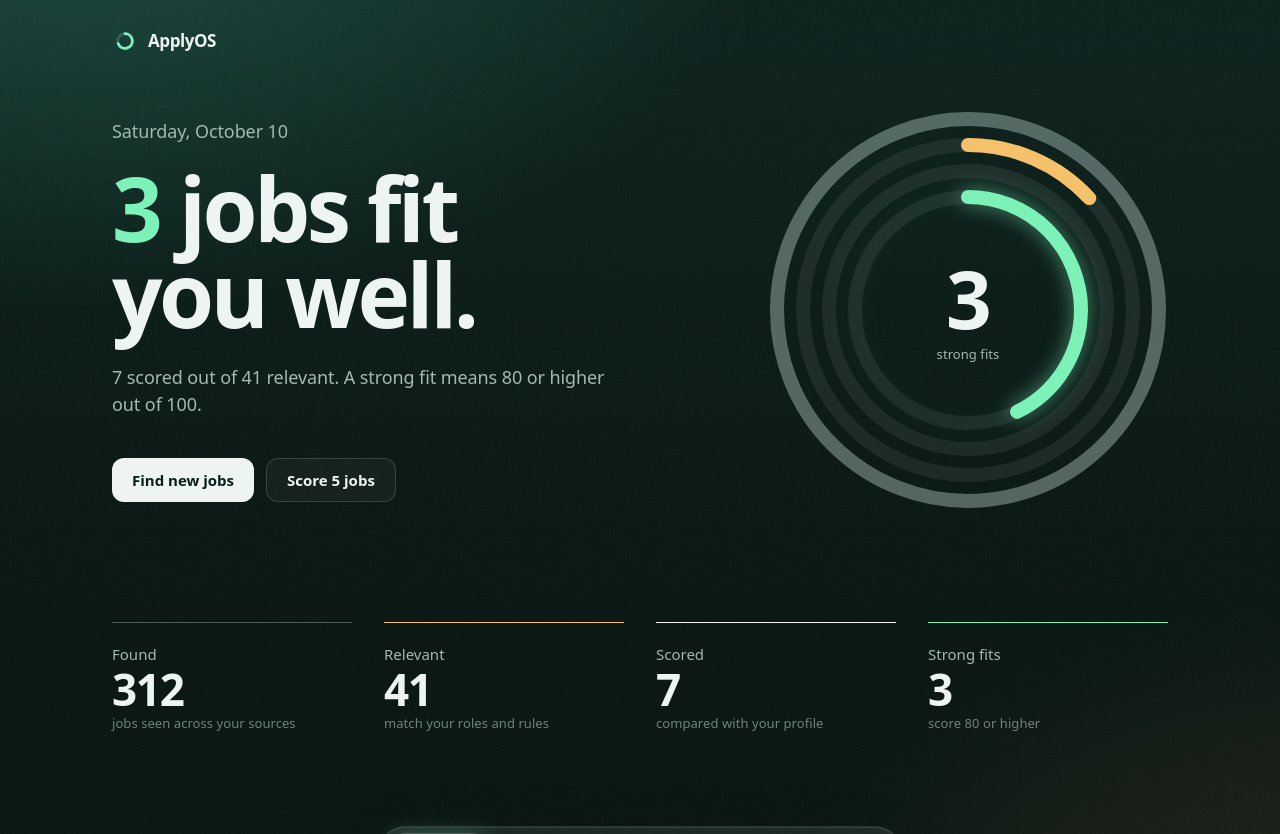
Test: Today page › finds jobs, confirms, and remembers the last search
Click the button "Find new jobs". click: (183,480)
box: [112,458,254,502]
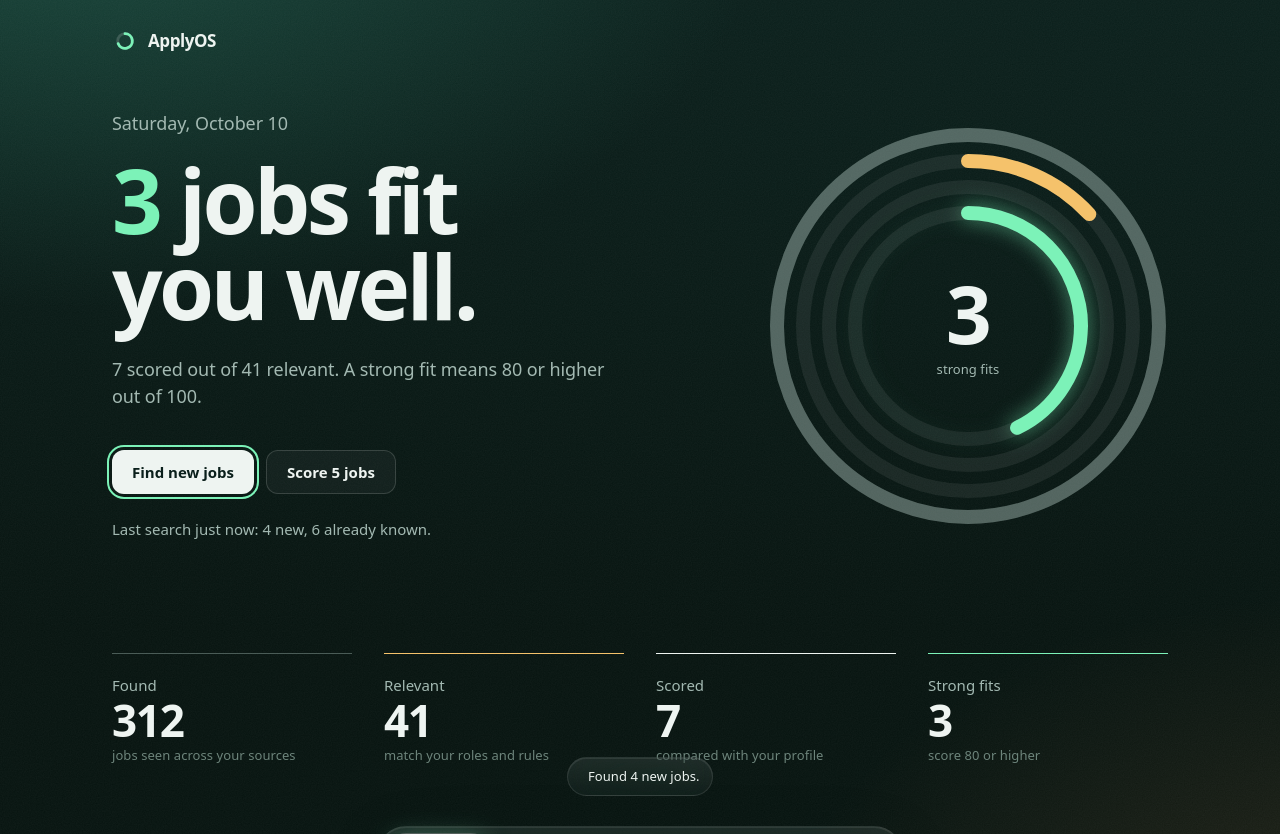
Expected: the text "Found 4 new jobs." is shown, [588,768,700,785]
Expected: the text "Last search just now: 4 new, 6 already known." is shown, [112,519,431,539]
